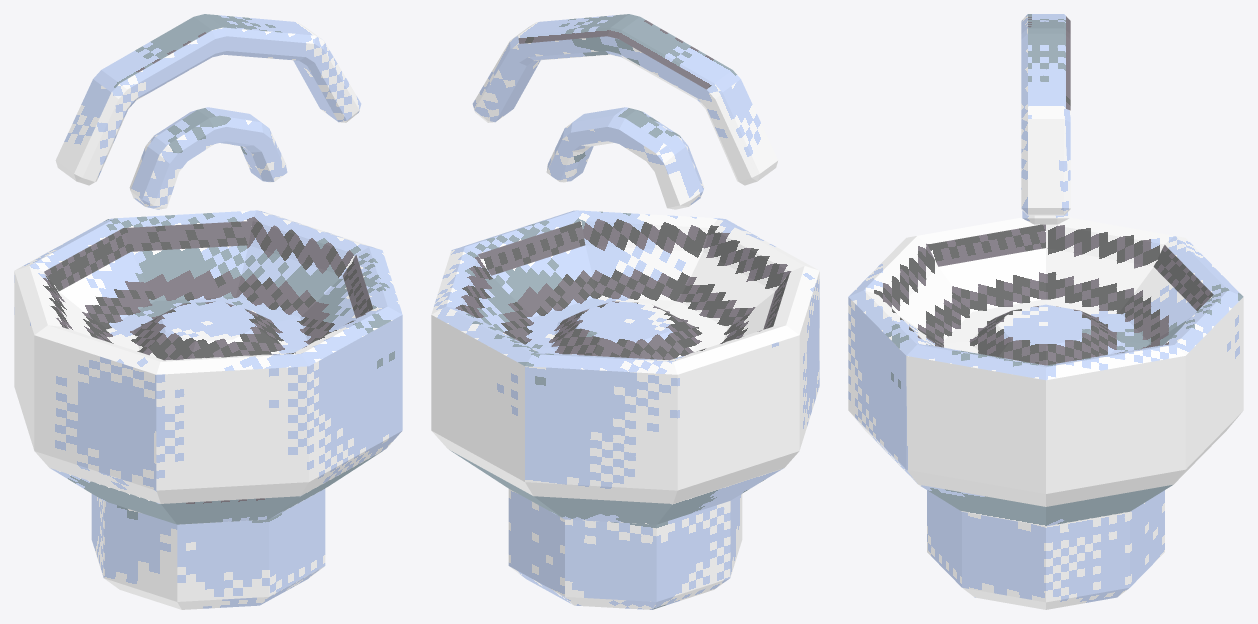
Rendered from VolumeDown.glb.
The picture shows the model from 3 angles, left to right: view 1: azimuth 30°, elevation 25°; view 2: azimuth 150°, elevation 25°; view 3: azimuth 270°, elevation 25°; orthographic projection.
Parts seen in each view (by area): view 1: Speaker.001; view 2: Speaker.001; view 3: Speaker.001.
Part boxes in pixels (left/top/right/bottom): Speaker.001: left=14, top=14, right=402, bottom=609; Speaker.001: left=431, top=14, right=819, bottom=609; Speaker.001: left=848, top=14, right=1243, bottom=609.
Size of the model in its own units: 2 by 3 by 2.
1 material, 1 textured.
